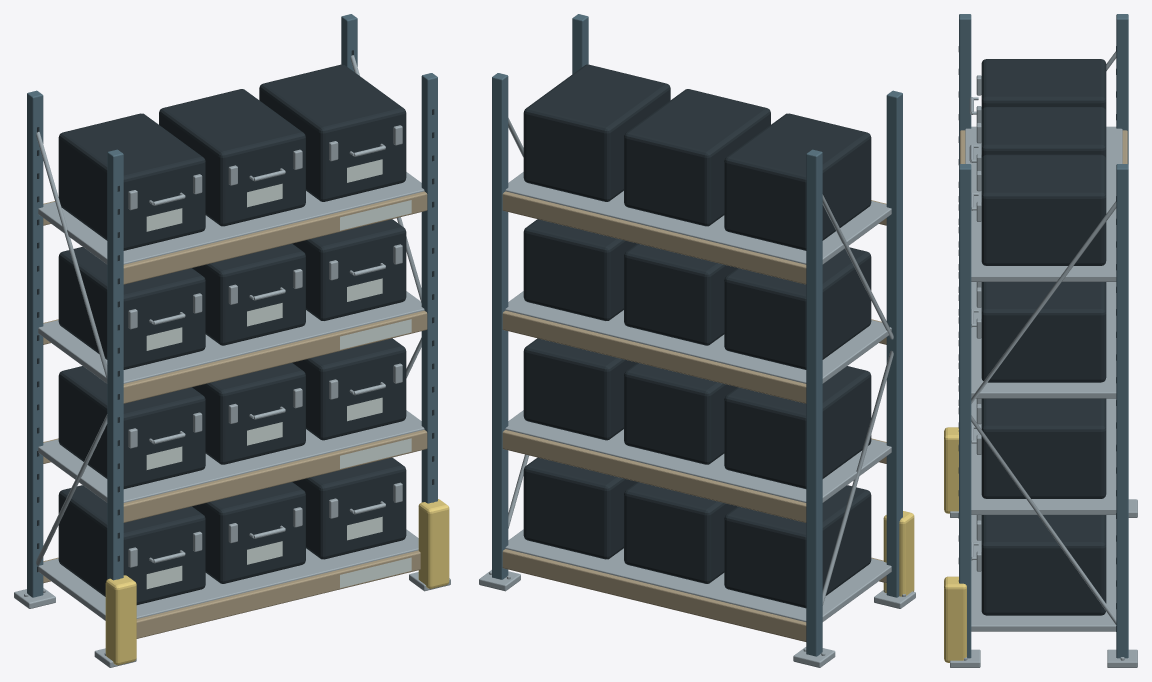
Rendered from OD_WarehouseRack_3.fbx.
3 views of the same model, side by side, from view 1: azimuth 30°, elevation 25°; view 2: azimuth 150°, elevation 25°; view 3: azimuth 270°, elevation 25° (orthographic). The views are drawn at different scales.
Visible parts, largest first — view 1: OD_WarehouseRack_3; view 2: OD_WarehouseRack_3; view 3: OD_WarehouseRack_3.
Boxes of the visible parts, <box> form: OD_WarehouseRack_3: <box>14,14,450,667</box>; OD_WarehouseRack_3: <box>479,14,915,667</box>; OD_WarehouseRack_3: <box>944,14,1137,667</box>.
Size of the model in its own units: 201 by 285 by 101.
